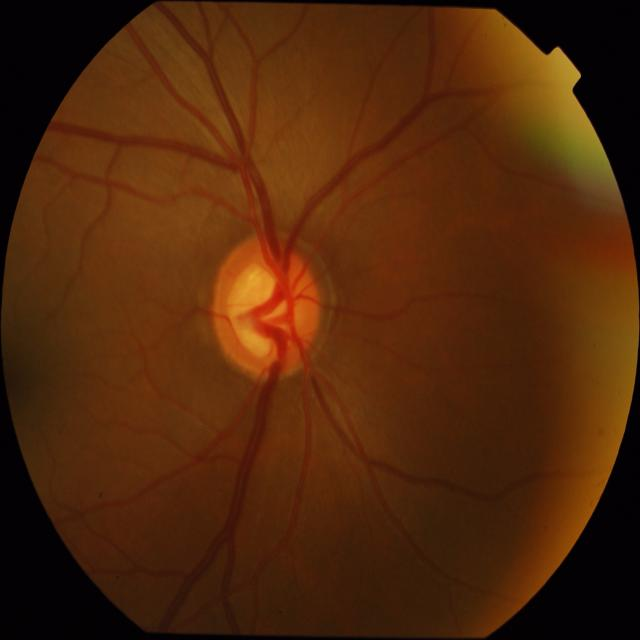OC: (224, 253, 310, 368)
OD: (212, 233, 321, 380)
